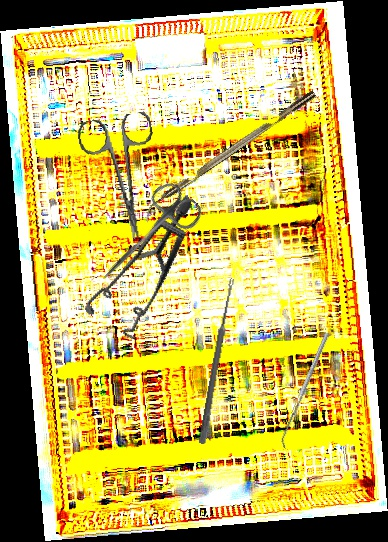Chopper: (137, 90, 323, 223)
Iris Scissors: (86, 176, 207, 299), (75, 110, 171, 246)
Spatula Surgical: (277, 332, 334, 449)
Speculum: (59, 194, 233, 353)
Surgical Spoon: (198, 277, 236, 445)
